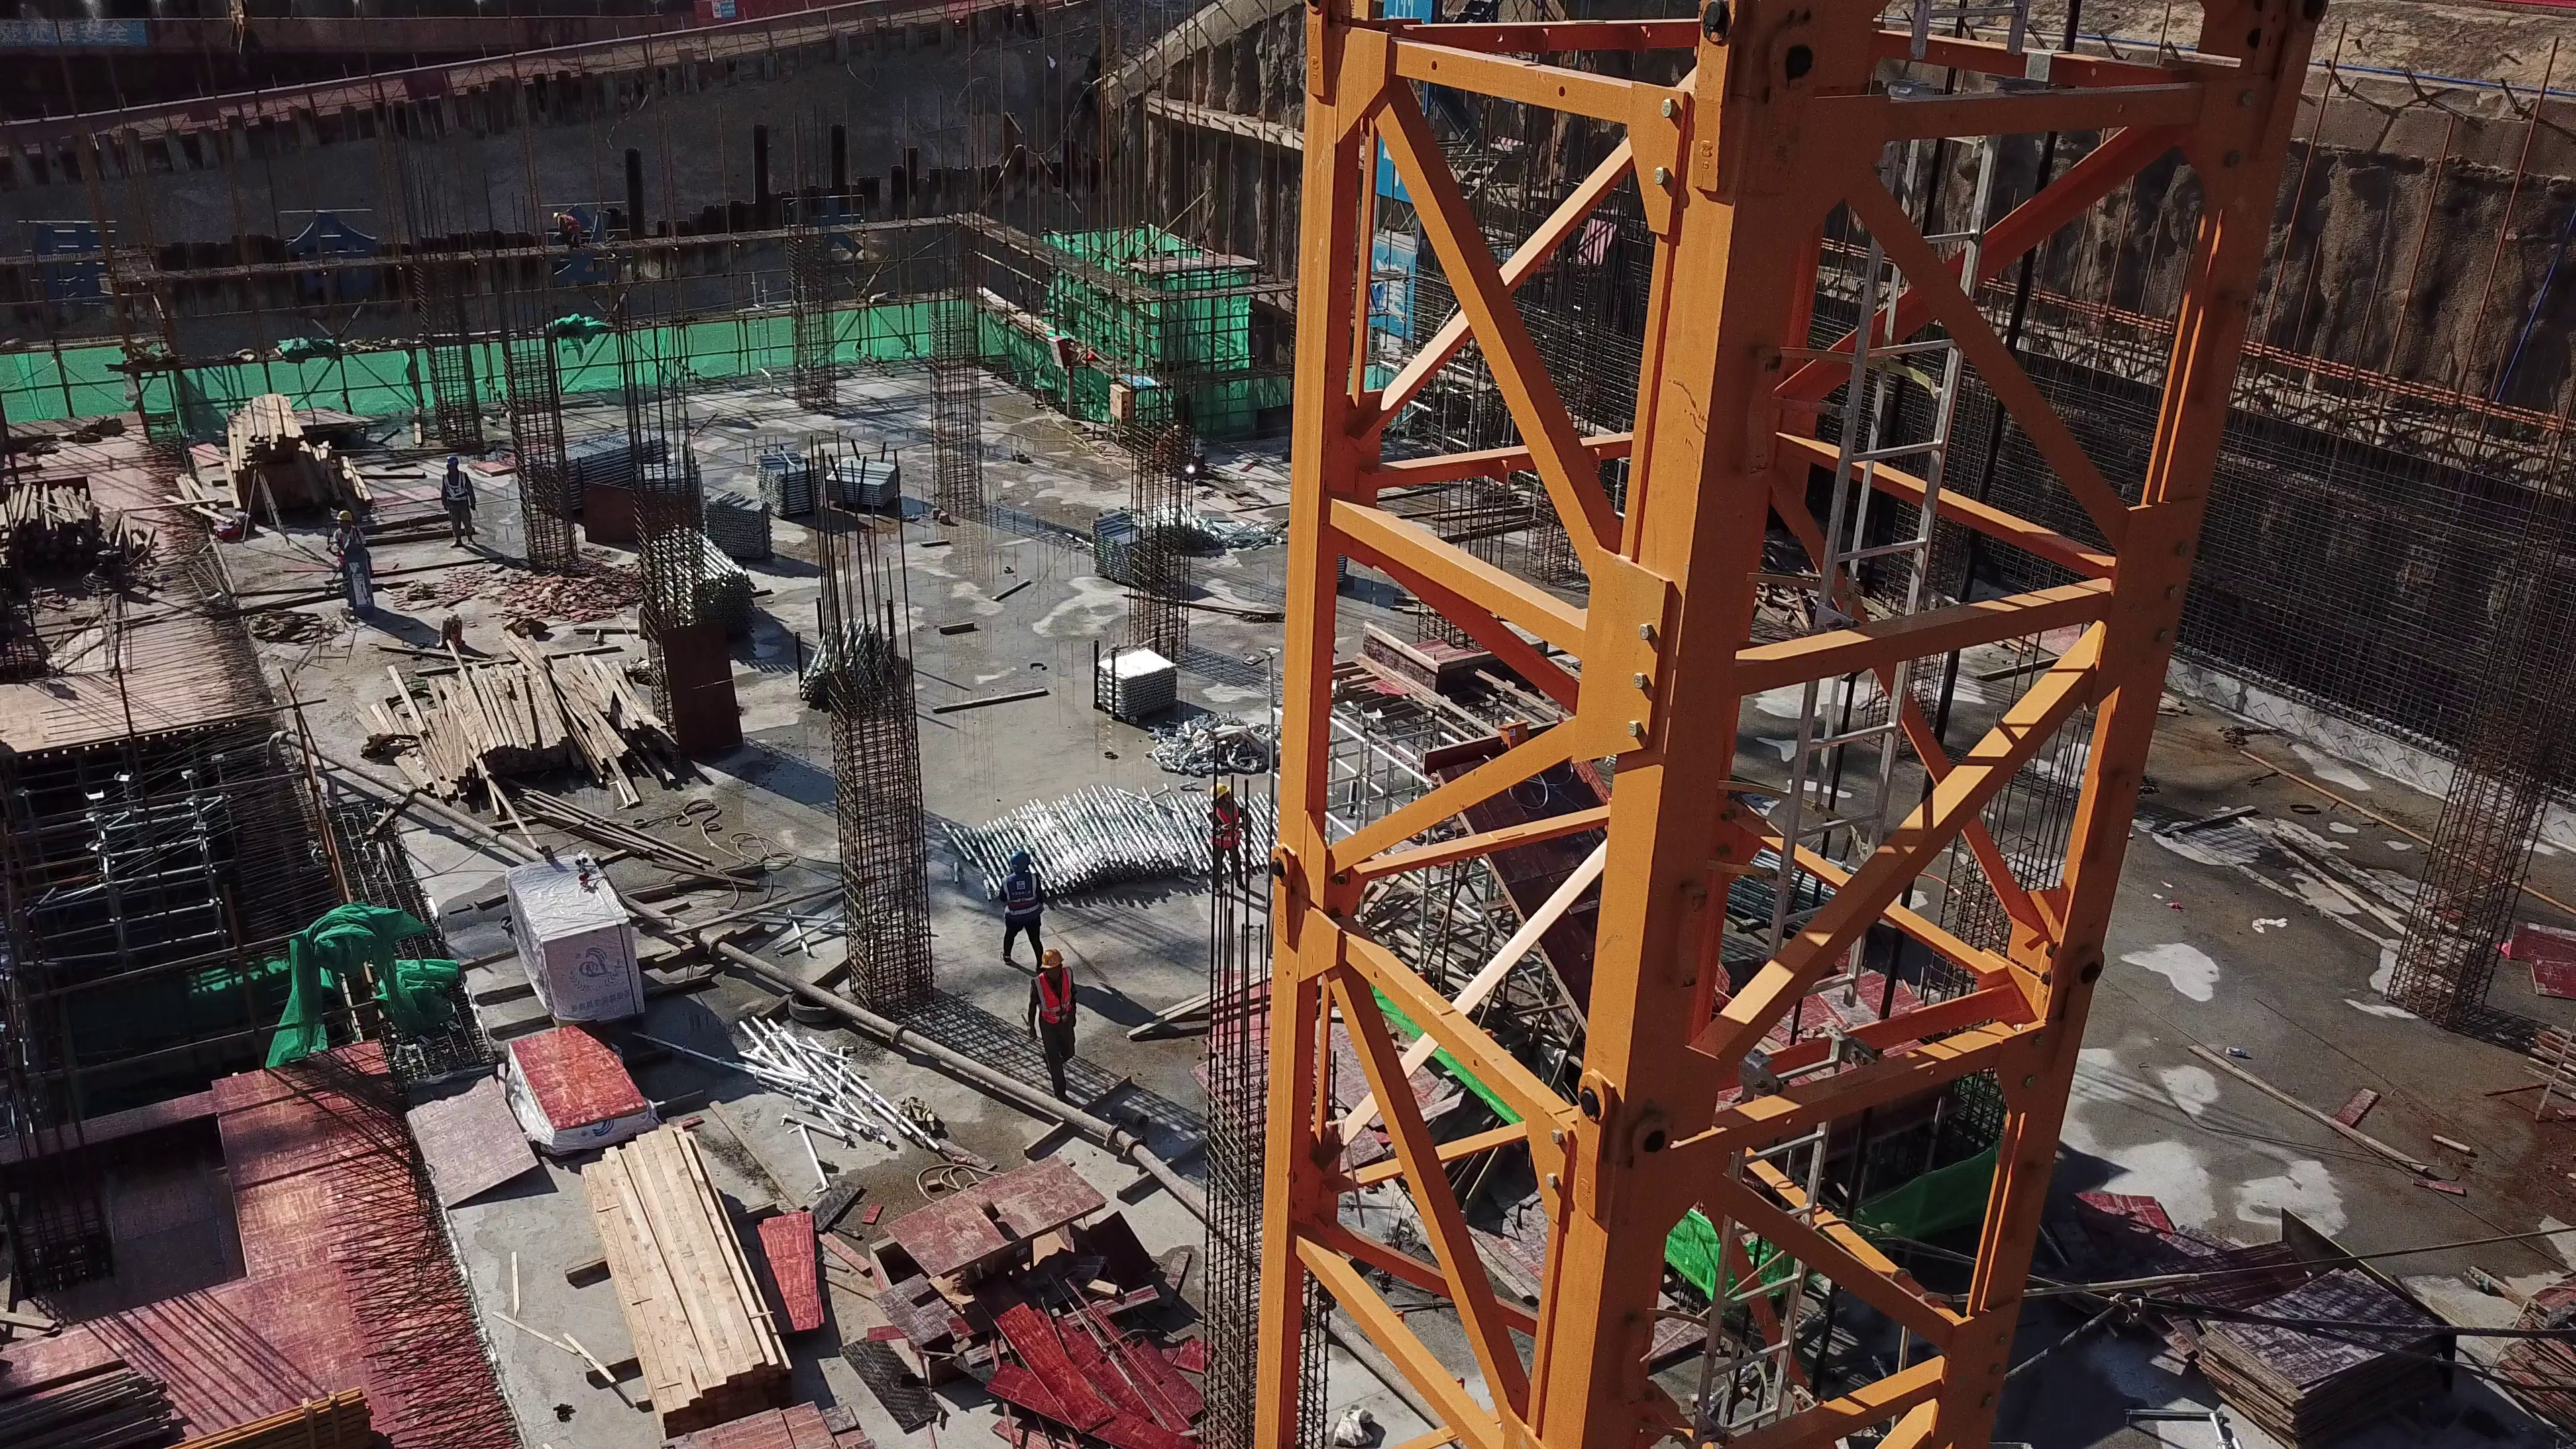board: (2206, 1254, 2445, 1419), (1037, 1305, 1189, 1442), (514, 1030, 645, 1142)
fence: (1, 5, 865, 150)
helmet: (1040, 949, 1064, 969), (1010, 853, 1034, 869), (1209, 782, 1228, 798), (445, 458, 462, 469), (336, 511, 353, 521)
person: (1021, 951, 1074, 1112), (996, 849, 1041, 967), (324, 511, 373, 613), (435, 454, 484, 555), (1207, 782, 1250, 893), (548, 211, 581, 250)
scaffold: (936, 796, 1201, 894), (539, 428, 662, 514), (648, 529, 751, 628), (1090, 637, 1176, 712), (822, 452, 900, 519), (702, 489, 773, 559), (1087, 506, 1150, 584), (754, 446, 816, 522)
slogan: (14, 225, 115, 353), (290, 210, 385, 310), (1, 14, 148, 46)
vest: (1005, 872, 1040, 920), (1210, 805, 1245, 851), (1034, 971, 1069, 1020), (443, 474, 468, 507), (336, 530, 358, 549)
wood: (590, 1129, 774, 1397), (381, 661, 653, 767), (217, 394, 372, 514)
